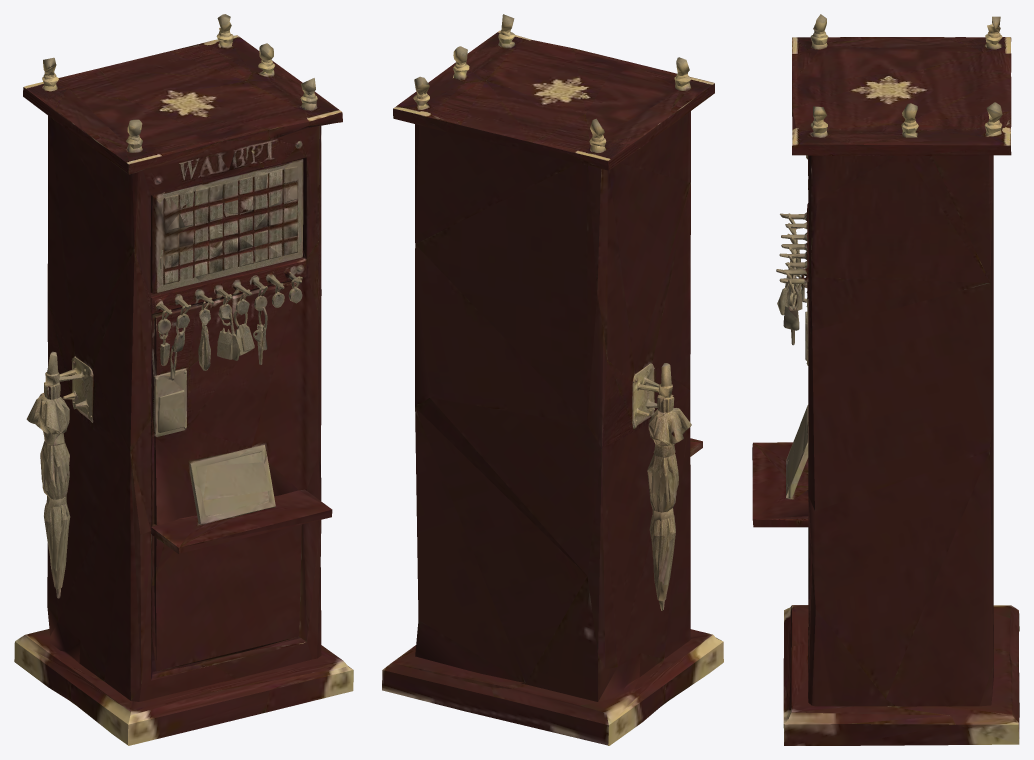
Rendered from valetStand-medio.glb.
The picture shows the model from 3 angles, left to right: view 1: azimuth 30°, elevation 25°; view 2: azimuth 150°, elevation 25°; view 3: azimuth 270°, elevation 25°; orthographic projection. The views are drawn at different scales.
Bounding box in the file's own units: 0.8349 × 1.9 × 0.732.
Materials: 1 (1 with a texture image).
